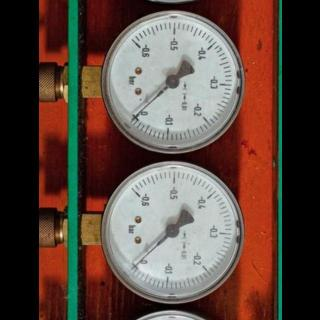gauge: (97, 8, 243, 156), (99, 159, 243, 305), (125, 106, 148, 126), (129, 186, 151, 206), (126, 255, 146, 273), (130, 36, 150, 54), (165, 222, 179, 238), (165, 74, 179, 88), (128, 264, 138, 271), (131, 115, 138, 124)
